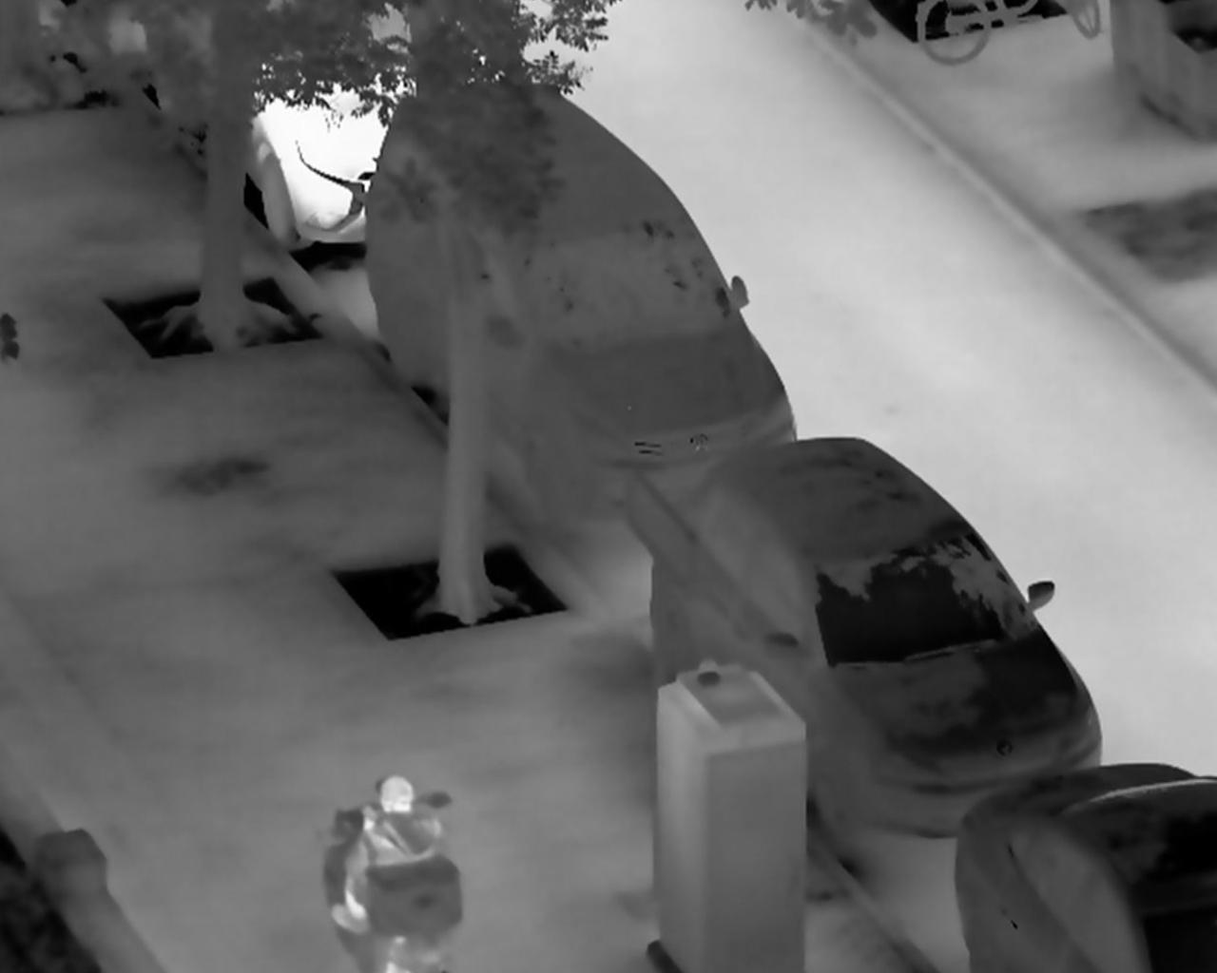person: (329, 772, 452, 938)
